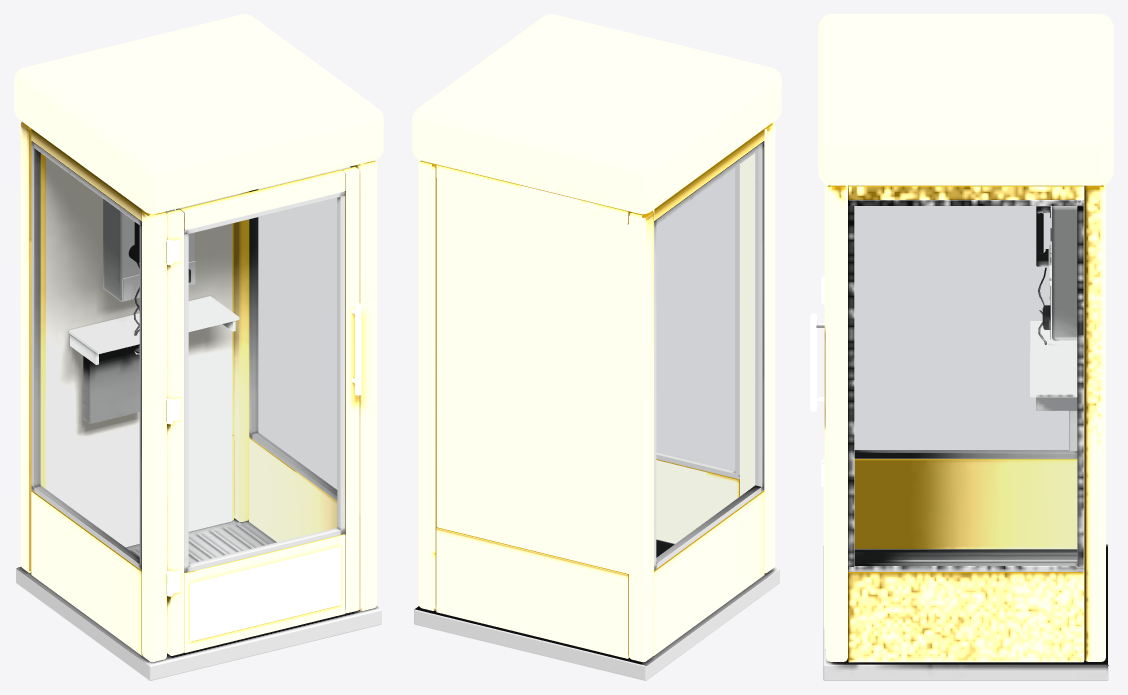
Rendered from phone-booth-v1.glb.
The picture shows the model from 3 angles, left to right: view 1: azimuth 30°, elevation 25°; view 2: azimuth 150°, elevation 25°; view 3: azimuth 270°, elevation 25°; orthographic projection. The views are drawn at different scales.
Visible parts, largest first — view 1: body, glass, metal, phone; view 2: body, glass; view 3: body, glass, phone, metal.
Boxes of the visible parts, x1,y1,x2,y2 form: body: (14,14,383,680); glass: (255,198,337,491); metal: (69,192,361,641); phone: (83,199,195,423); body: (412,14,781,680); glass: (656,168,735,471); body: (818,14,1113,680); glass: (855,206,1069,451); phone: (1036,206,1077,451); metal: (810,276,1077,628).
Bounding box in the file's own units: 0.9499 × 1.95 × 0.9759.
Materials: 10 (3 with a texture image).
